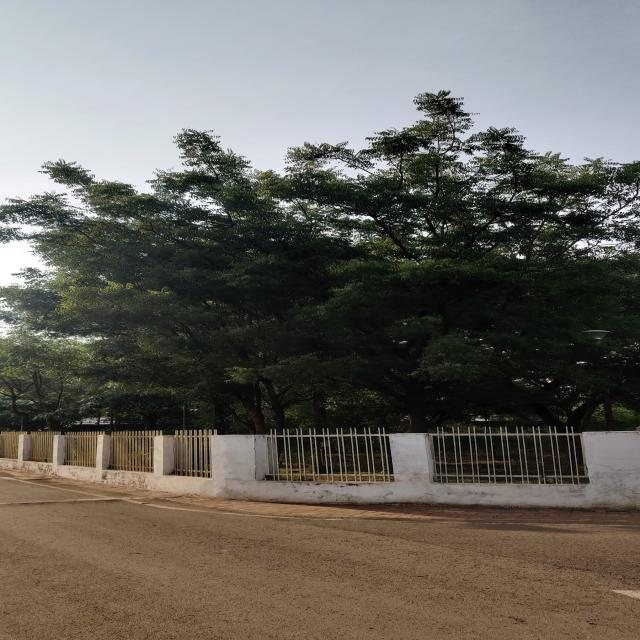Neem Tree: (174, 162, 601, 458)
